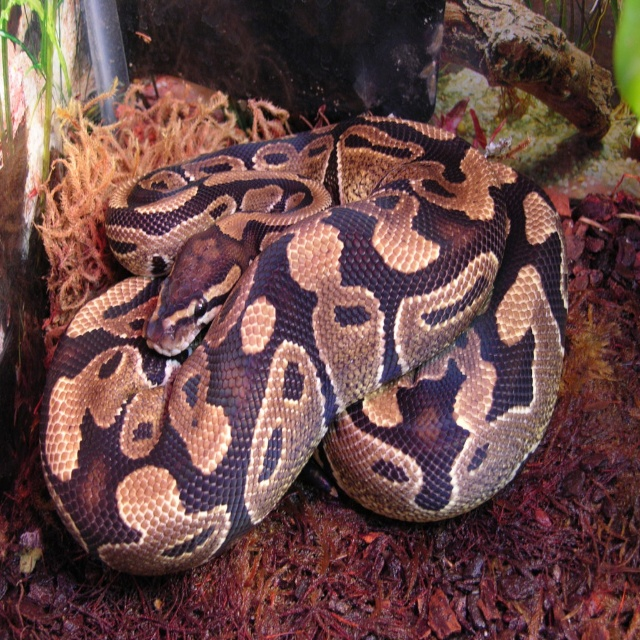Snake: (38, 112, 570, 578)
